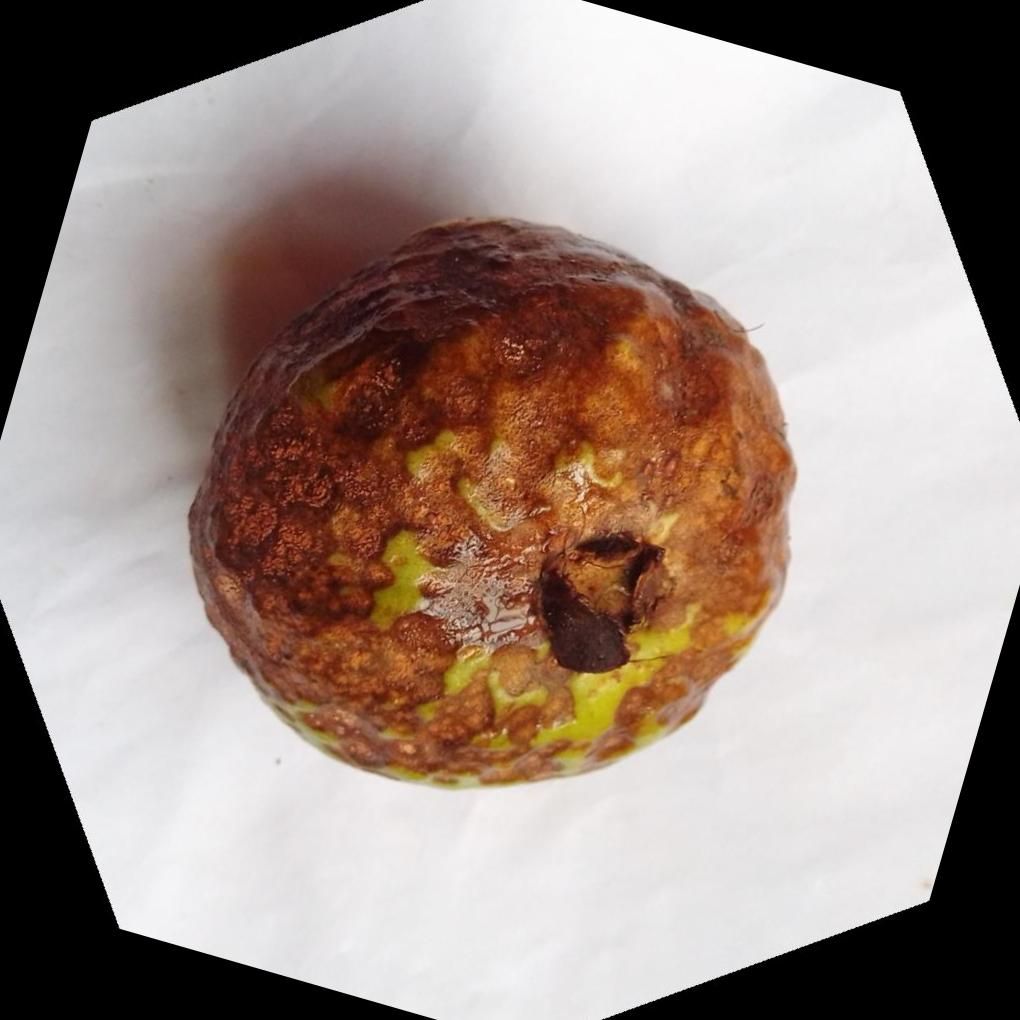FreshOrange: (183, 214, 797, 792)
